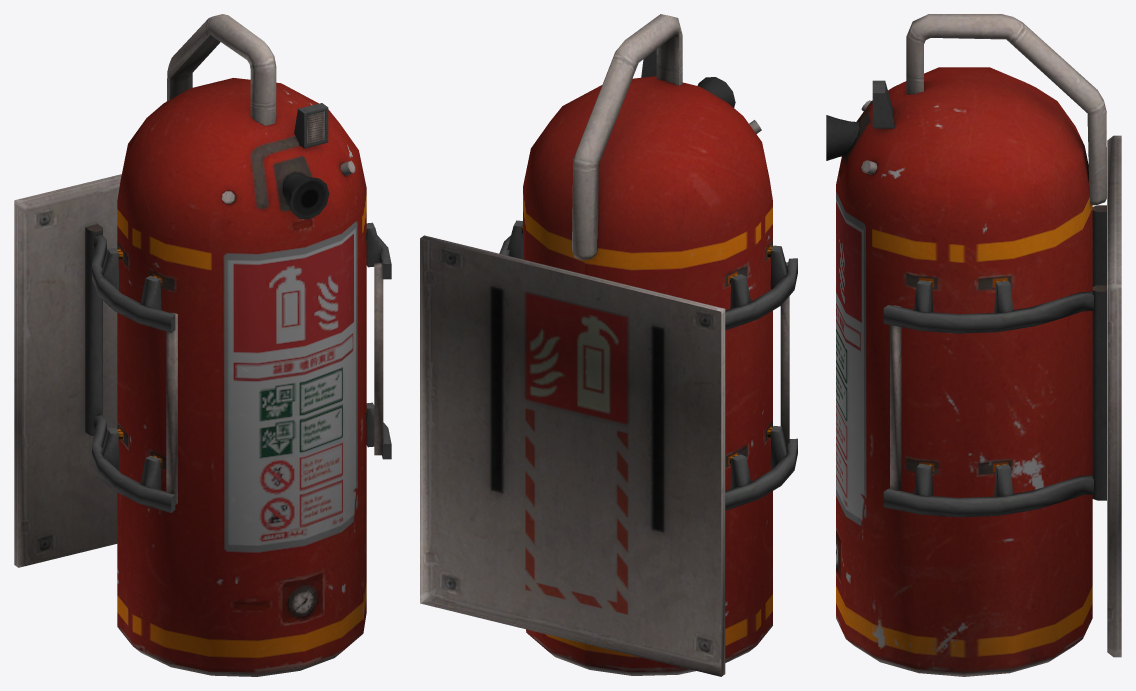
Rendered from fire_extinguisher.dae.
3 renders of one model, left to right at view 1: azimuth 30°, elevation 25°; view 2: azimuth 150°, elevation 25°; view 3: azimuth 270°, elevation 25°, orthographic. The views are drawn at different scales.
Parts seen in each view (by area): view 1: extinguisher, rack; view 2: rack, extinguisher; view 3: extinguisher, rack.
Part boxes in pixels (left/top/right/bottom): extinguisher: left=117, top=14, right=366, bottom=676; rack: left=14, top=174, right=391, bottom=567; rack: left=420, top=220, right=797, bottom=676; extinguisher: left=523, top=14, right=772, bottom=675; extinguisher: left=826, top=14, right=1106, bottom=676; rack: left=883, top=135, right=1121, bottom=657.
Bounding box in the file's own units: 0.4219 × 0.8019 × 0.3521.
1 material, 1 textured.
